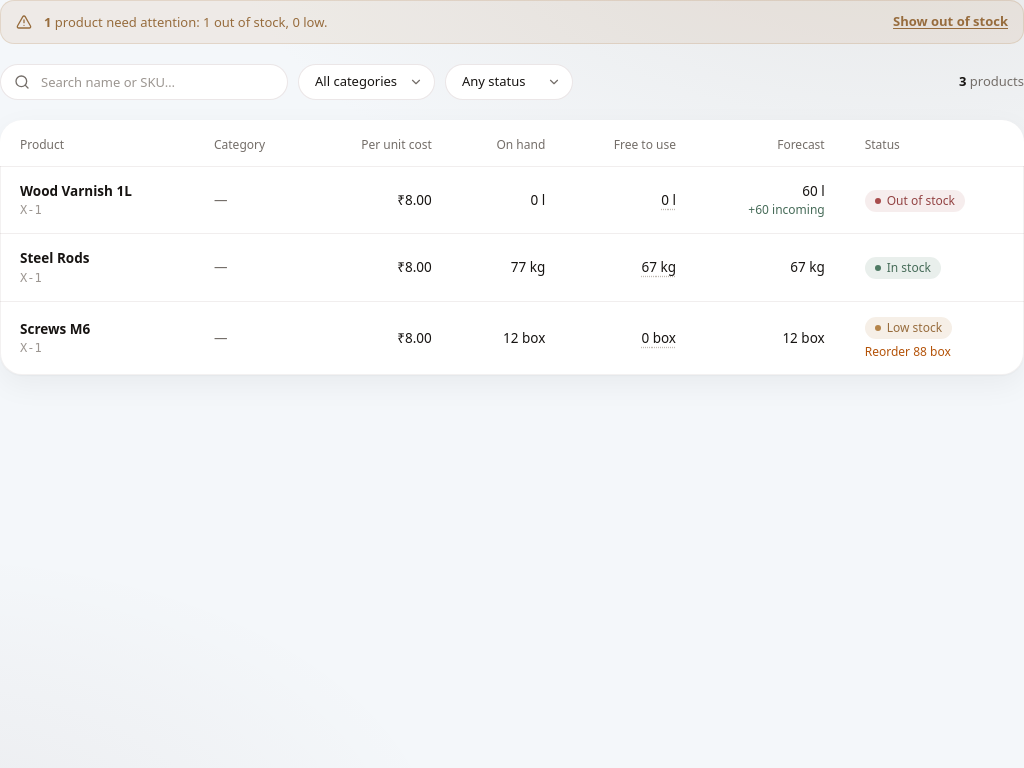
Test: StockPage forecast column › free-to-use breakdown › opens a worked sum when the free-to-use value is clicked
Step 1. Click the button "67 kg" → {"x": 659, "y": 267}, box [642,257,676,278]
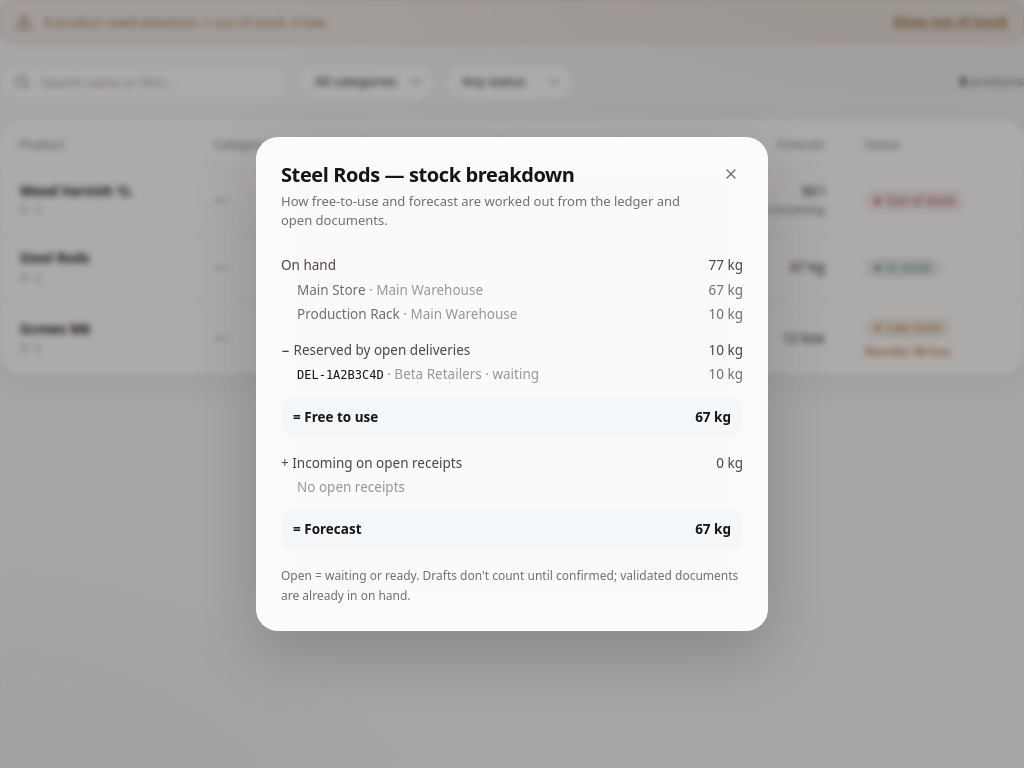
Expected: the text "Main Store" is shown, [297,281,366,299]
Expected: the text "Production Rack" is shown, [297,305,400,323]
Expected: the text "DEL-1A2B3C4D" is shown, [297,368,384,382]
